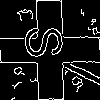S: (25, 25, 72, 59)
